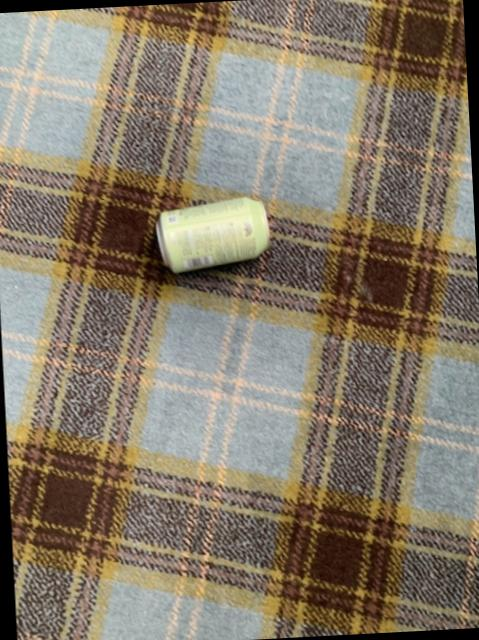metal: (154, 196, 267, 270)
